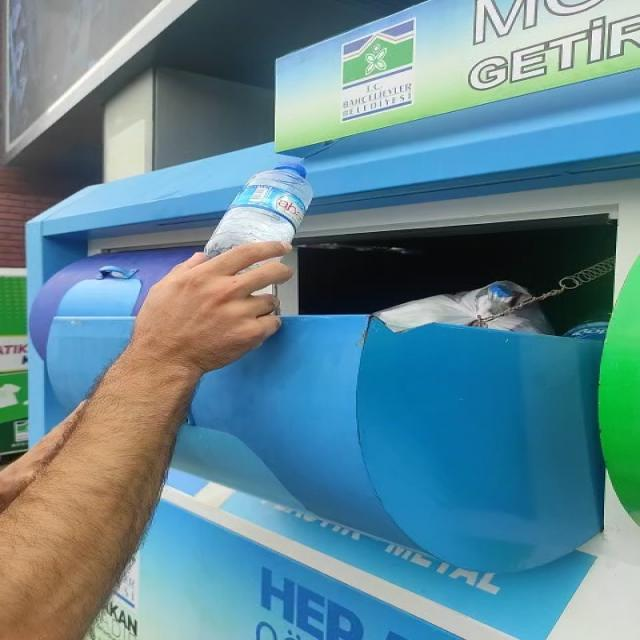Plastic: (204, 164, 313, 257), (204, 165, 313, 257)
